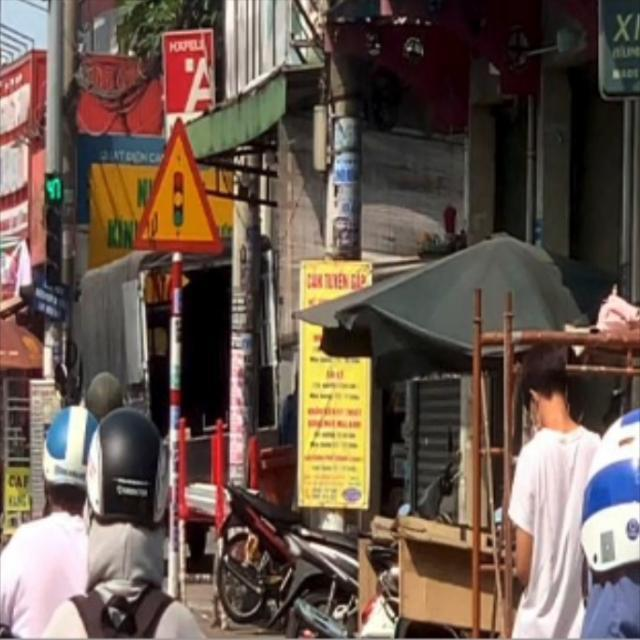209-giao-nhau-co-tin-hieu-den: (134, 117, 221, 252)
